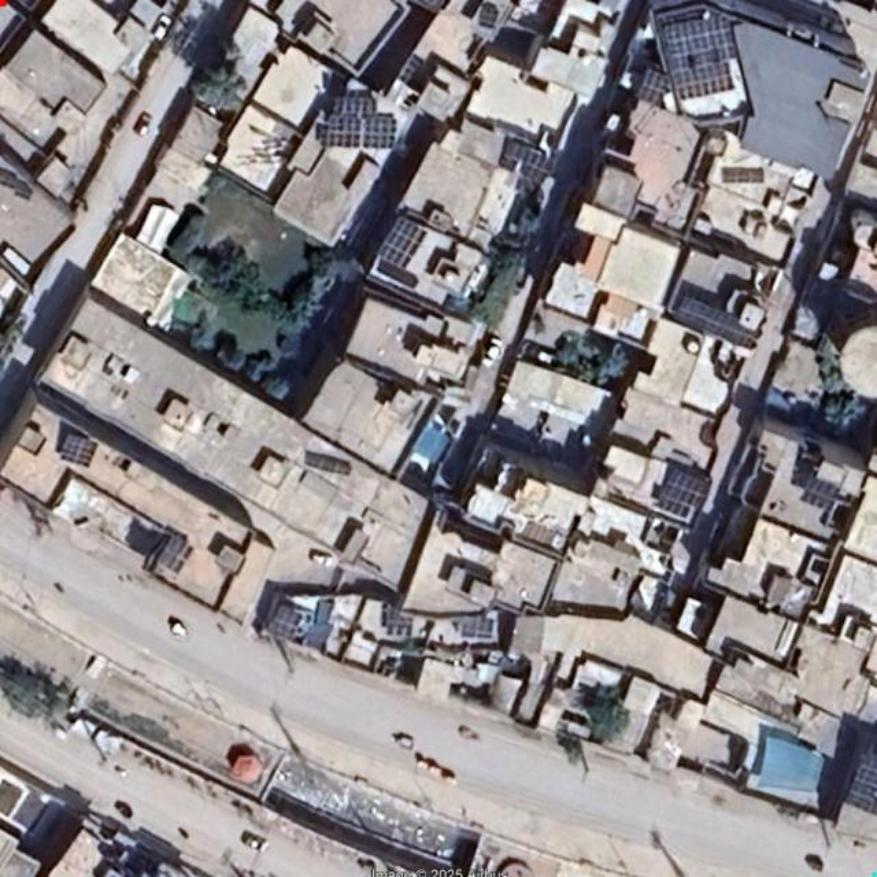Solarpanel: (660, 12, 746, 102), (670, 301, 766, 354), (656, 468, 707, 519), (505, 141, 557, 191), (324, 113, 395, 149), (382, 221, 423, 268), (848, 751, 876, 818), (799, 477, 841, 511), (57, 437, 98, 467), (638, 68, 669, 101), (338, 92, 378, 115)
